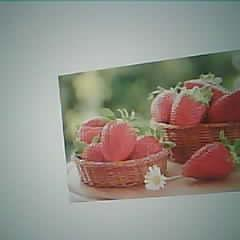straw-ripe: (182, 141, 235, 179)
